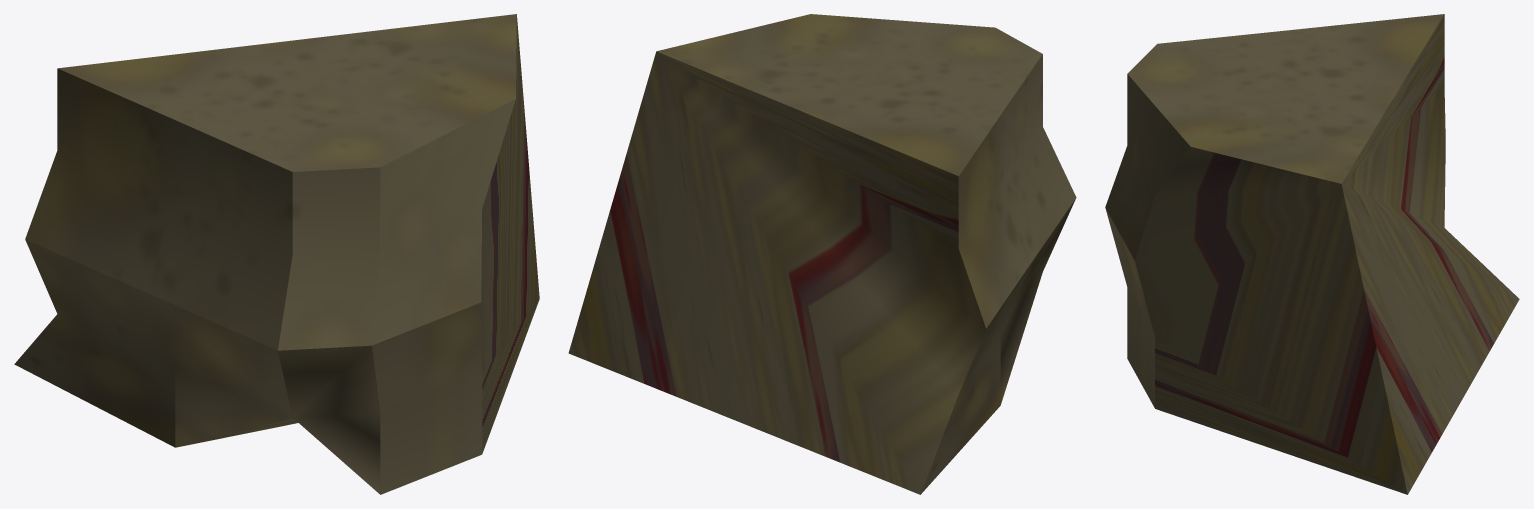
The model's file is ishi_02_7_1.fbx.
The picture shows the model from 3 angles, left to right: view 1: azimuth 30°, elevation 25°; view 2: azimuth 150°, elevation 25°; view 3: azimuth 270°, elevation 25°; orthographic projection. The views are drawn at different scales.
Visible parts, largest first — view 1: polySurface24; view 2: polySurface24; view 3: polySurface24.
Part boxes in pixels (<box>): polySurface24: <box>14,14,539,494</box>; polySurface24: <box>568,14,1076,494</box>; polySurface24: <box>1105,14,1519,494</box>.
Size of the model in its own units: 8.09 by 5.14 by 6.77.
Materials: 1 (1 with a texture image).
